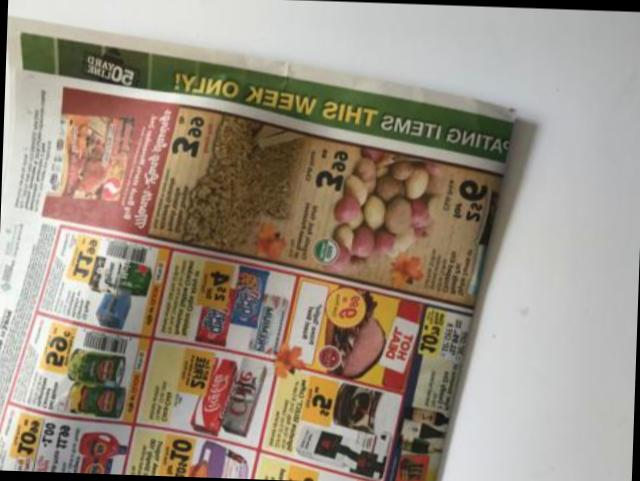cardboard paper: (0, 21, 510, 481)
